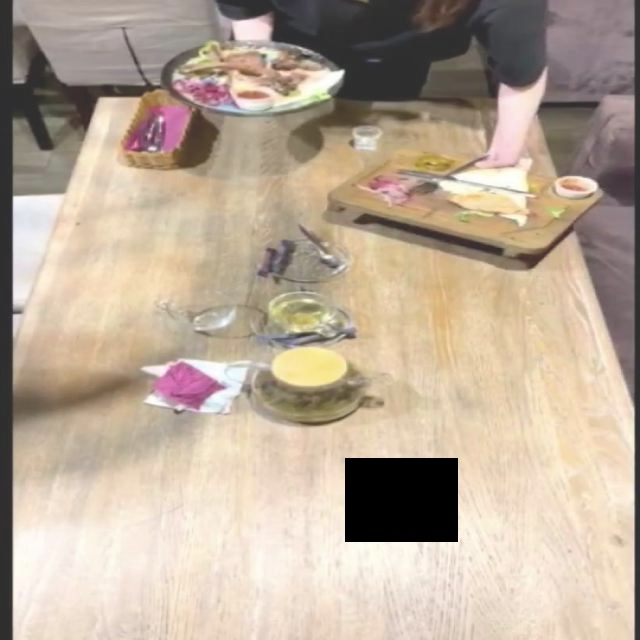meat: (327, 147, 606, 264), (163, 31, 351, 125)
tea: (254, 345, 394, 426)
